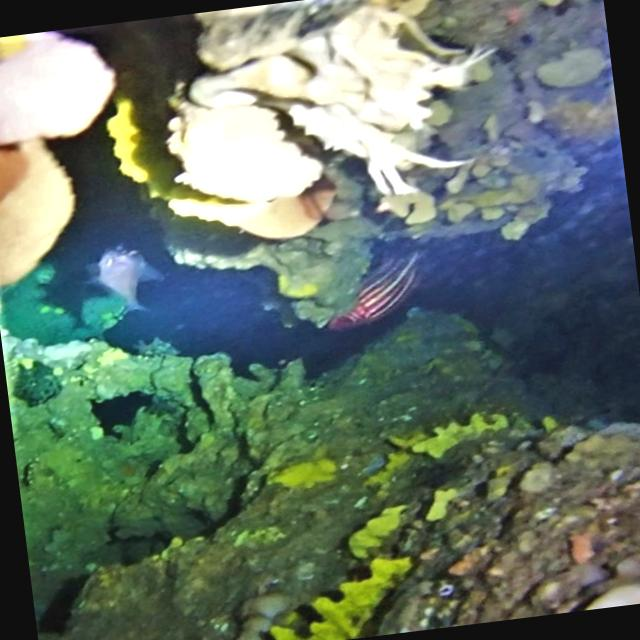Asker Baligi: (314, 248, 432, 335)
